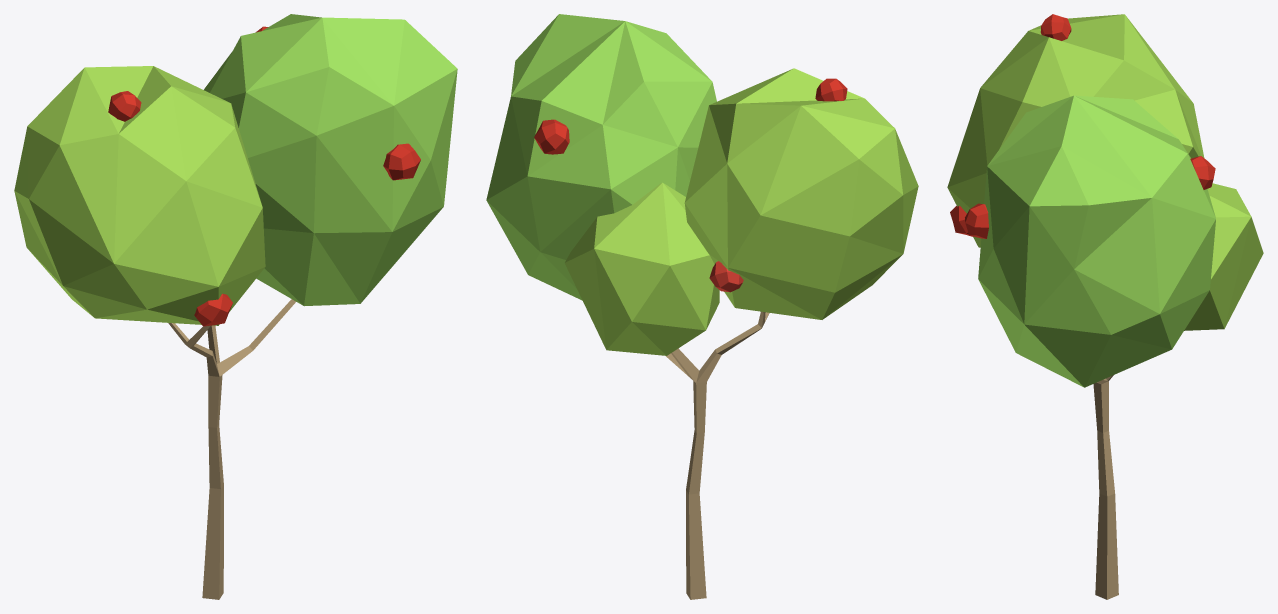
The model's file is Apple_Tree_Apples_s_03_LOD.fbx.
3 renders of one model, left to right at view 1: azimuth 30°, elevation 25°; view 2: azimuth 150°, elevation 25°; view 3: azimuth 270°, elevation 25°, orthographic. The views are drawn at different scales.
Parts seen in each view (by area): view 1: Apple_Tree_Apples_s_03_LOD0; view 2: Apple_Tree_Apples_s_03_LOD0; view 3: Apple_Tree_Apples_s_03_LOD0.
Part boxes in pixels (bbox=[...]): Apple_Tree_Apples_s_03_LOD0: bbox=[14, 14, 457, 599]; Apple_Tree_Apples_s_03_LOD0: bbox=[486, 14, 918, 599]; Apple_Tree_Apples_s_03_LOD0: bbox=[947, 14, 1263, 599].
Size of what is drawn, in the model's own units: 227 by 304 by 161.
